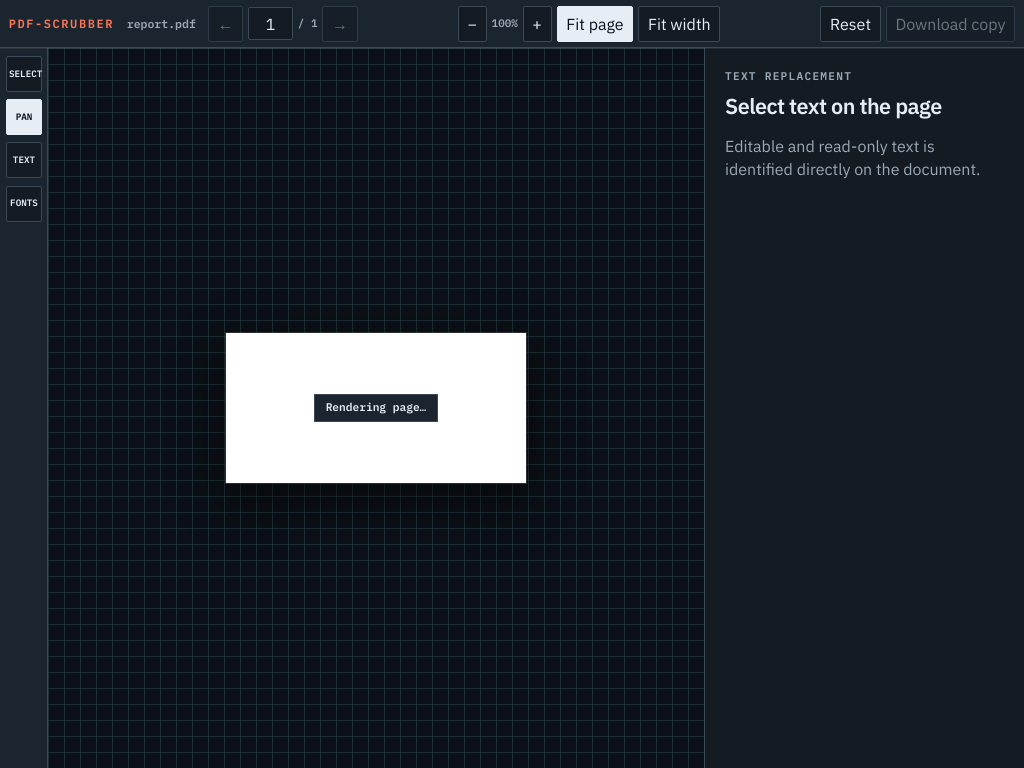
it: opens missing fonts without changing editor mode and restores launcher focus
Click the button with aria-label "Fonts needed for editing".
click(24, 204)  # box [6, 186, 42, 222]
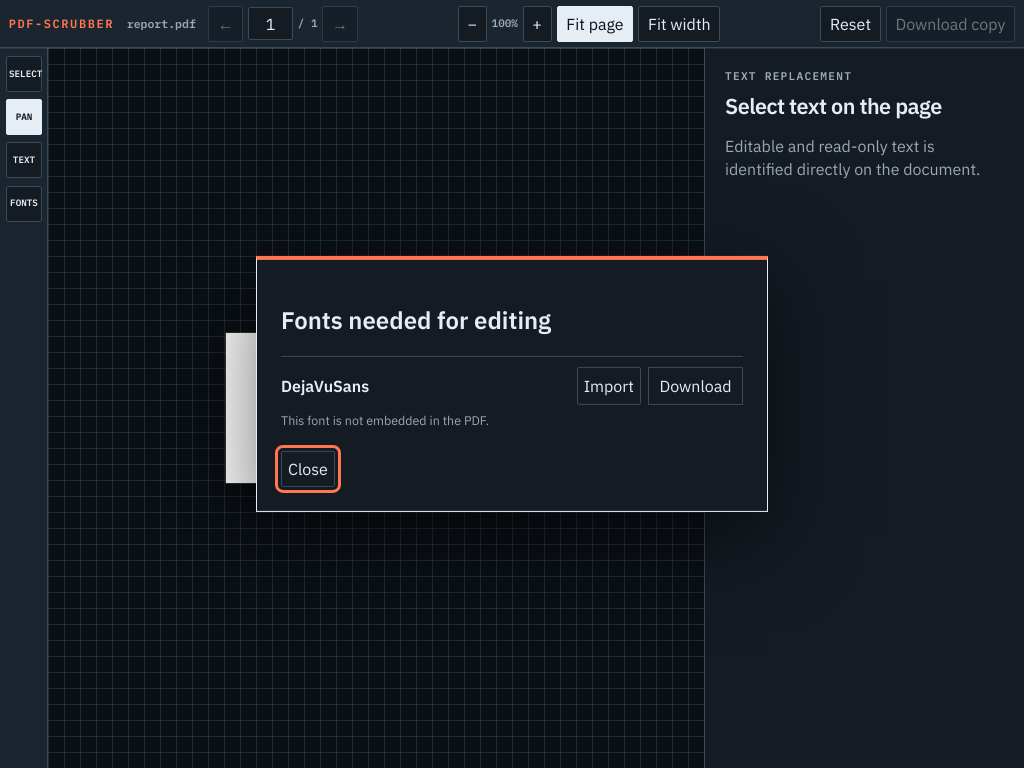
Expected: the dialog "Fonts needed for editing" is shown, [256, 256, 768, 512]
Expected: the text "DejaVuSans" is shown, [281, 376, 369, 396]
Click the button "Close".
click(308, 469)  # box [281, 451, 335, 487]
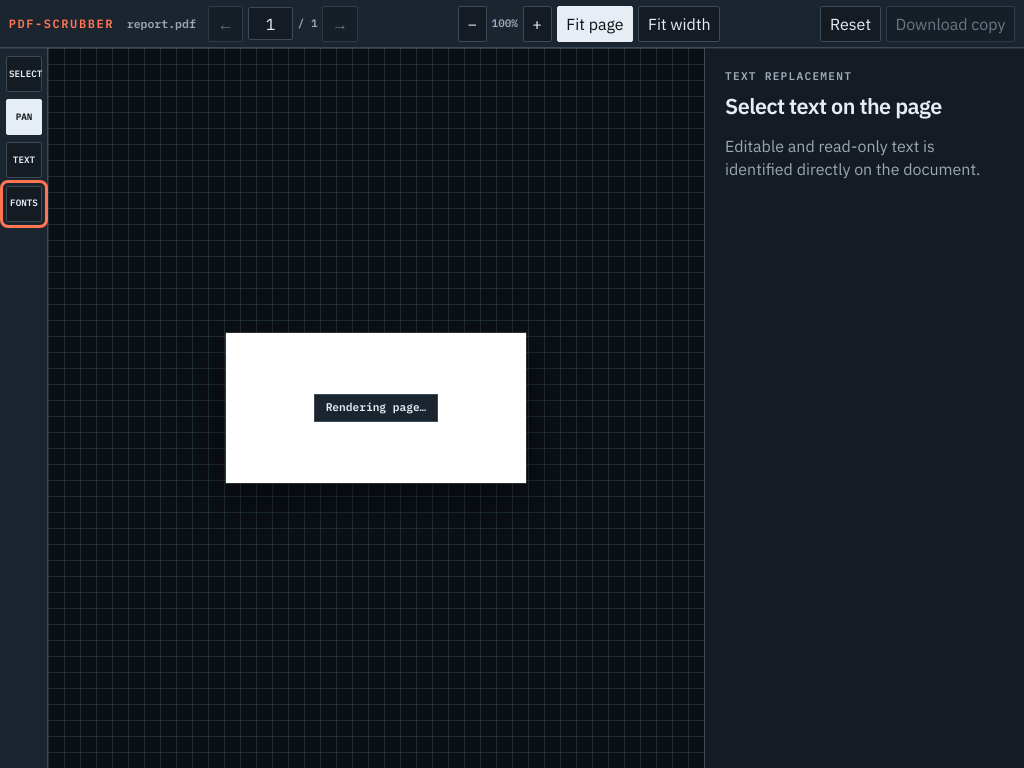
Expected: the heading "Fonts needed for editing" is gone
